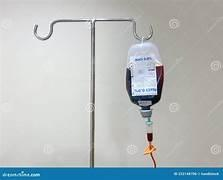Iv_Bottle: (126, 42, 163, 109)
